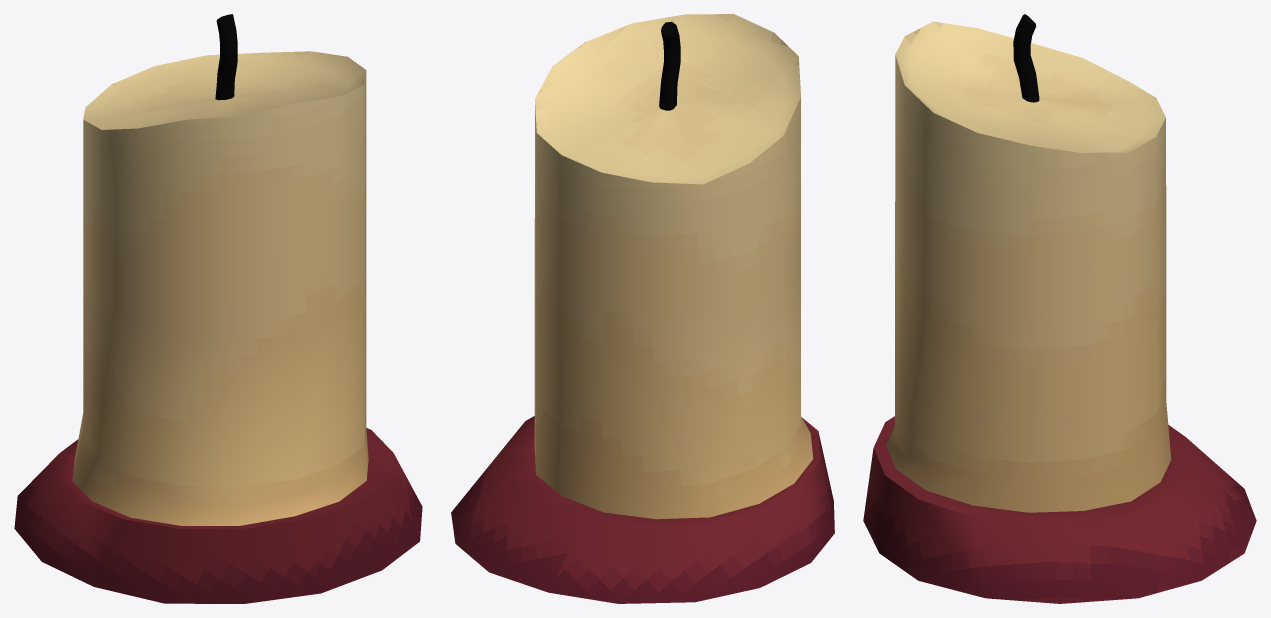
The model's file is candle.glb.
3 views of the same model, side by side, from view 1: azimuth 30°, elevation 25°; view 2: azimuth 150°, elevation 25°; view 3: azimuth 270°, elevation 25° (orthographic). The views are drawn at different scales.
Parts seen in each view (by area): view 1: Cube; view 2: Cube; view 3: Cube.
Part boxes in pixels (<box>): Cube: <box>14,14,422,603</box>; Cube: <box>451,14,834,603</box>; Cube: <box>863,14,1256,603</box>.
Bounding box in the file's own units: 1.83 × 2.58 × 1.83.
1 material, 1 textured.
